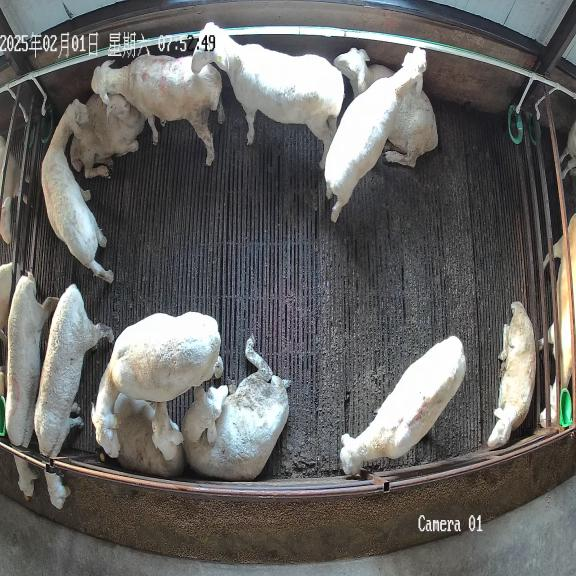eating: (34, 284, 114, 509), (5, 273, 59, 500)
lying: (182, 338, 289, 481), (333, 48, 438, 167), (487, 302, 536, 449), (70, 94, 145, 178), (114, 395, 184, 476)
stand: (192, 22, 344, 161), (92, 312, 223, 457), (325, 47, 426, 222), (340, 336, 466, 475), (91, 52, 225, 165), (41, 100, 113, 282)
